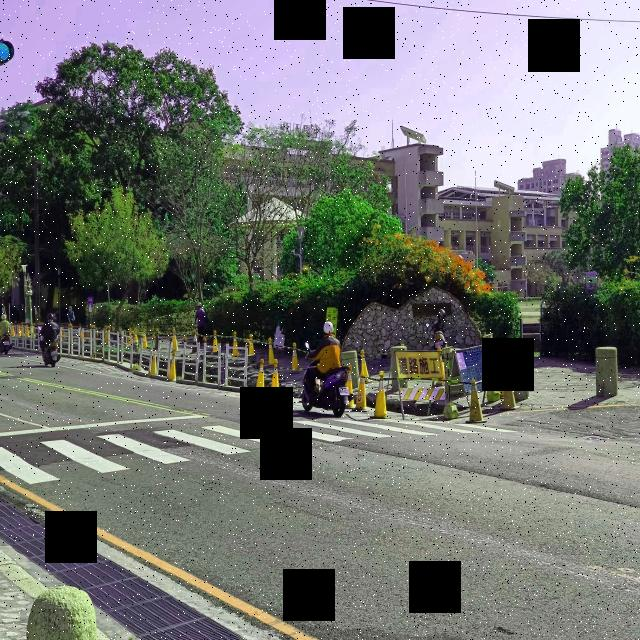person: (305, 322, 341, 391), (40, 313, 60, 353), (195, 302, 206, 343), (68, 305, 75, 323)
zebra crossing: (0, 418, 501, 489)
